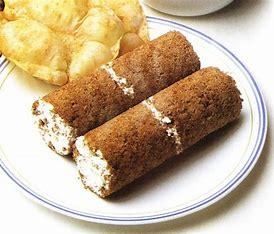Pittu: (53, 35, 244, 198)
